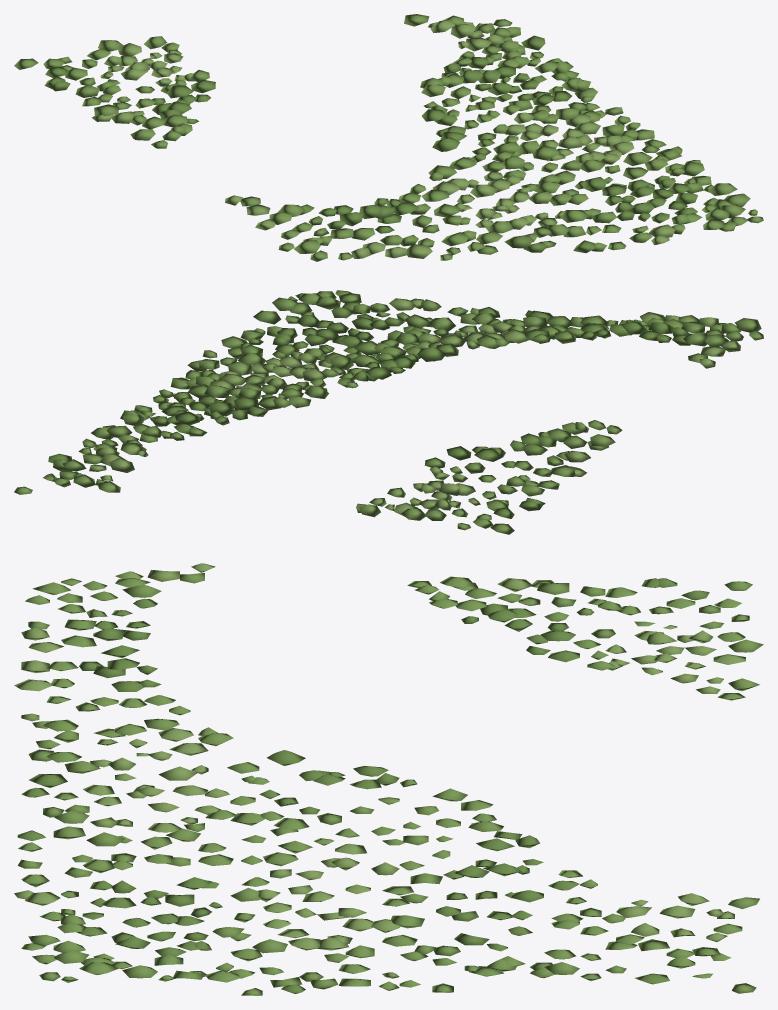
File: canopy-1-2-3.glb
3 renders of one model, top to bottom at view 1: azimuth 30°, elevation 25°; view 2: azimuth 150°, elevation 25°; view 3: azimuth 270°, elevation 25°, orthographic. The views are drawn at different scales.
Bounding box in the file's own units: 515 × 100 × 520.
Materials: 1 (1 with a texture image).
